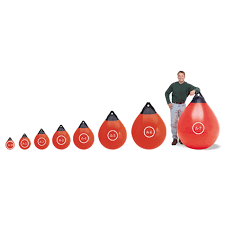buoy: (177, 103, 220, 151), (132, 113, 168, 150), (98, 119, 127, 150), (73, 127, 95, 150), (52, 131, 70, 149), (34, 133, 50, 150), (19, 138, 31, 150), (6, 140, 15, 150)
